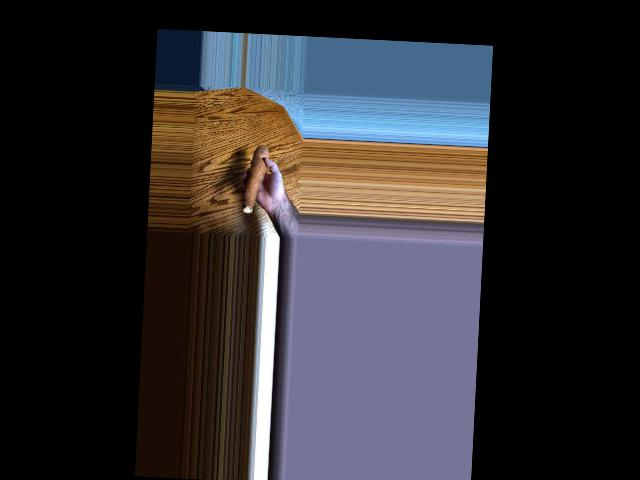sweet_potato: (243, 141, 265, 216)
